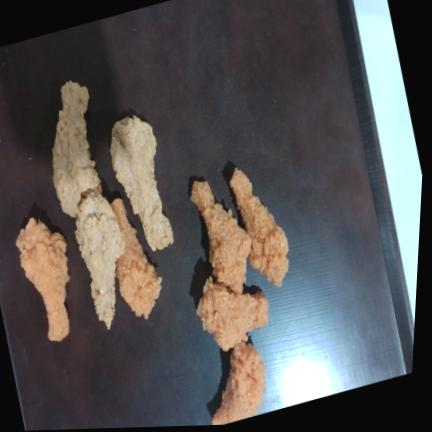chicken: (110, 114, 173, 251), (230, 167, 288, 285), (191, 180, 251, 292), (52, 80, 101, 216), (76, 191, 124, 328), (16, 217, 69, 339), (111, 198, 162, 318), (196, 277, 269, 350), (212, 341, 265, 425)
